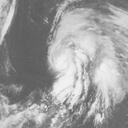cyclone: (47, 26, 111, 99)
